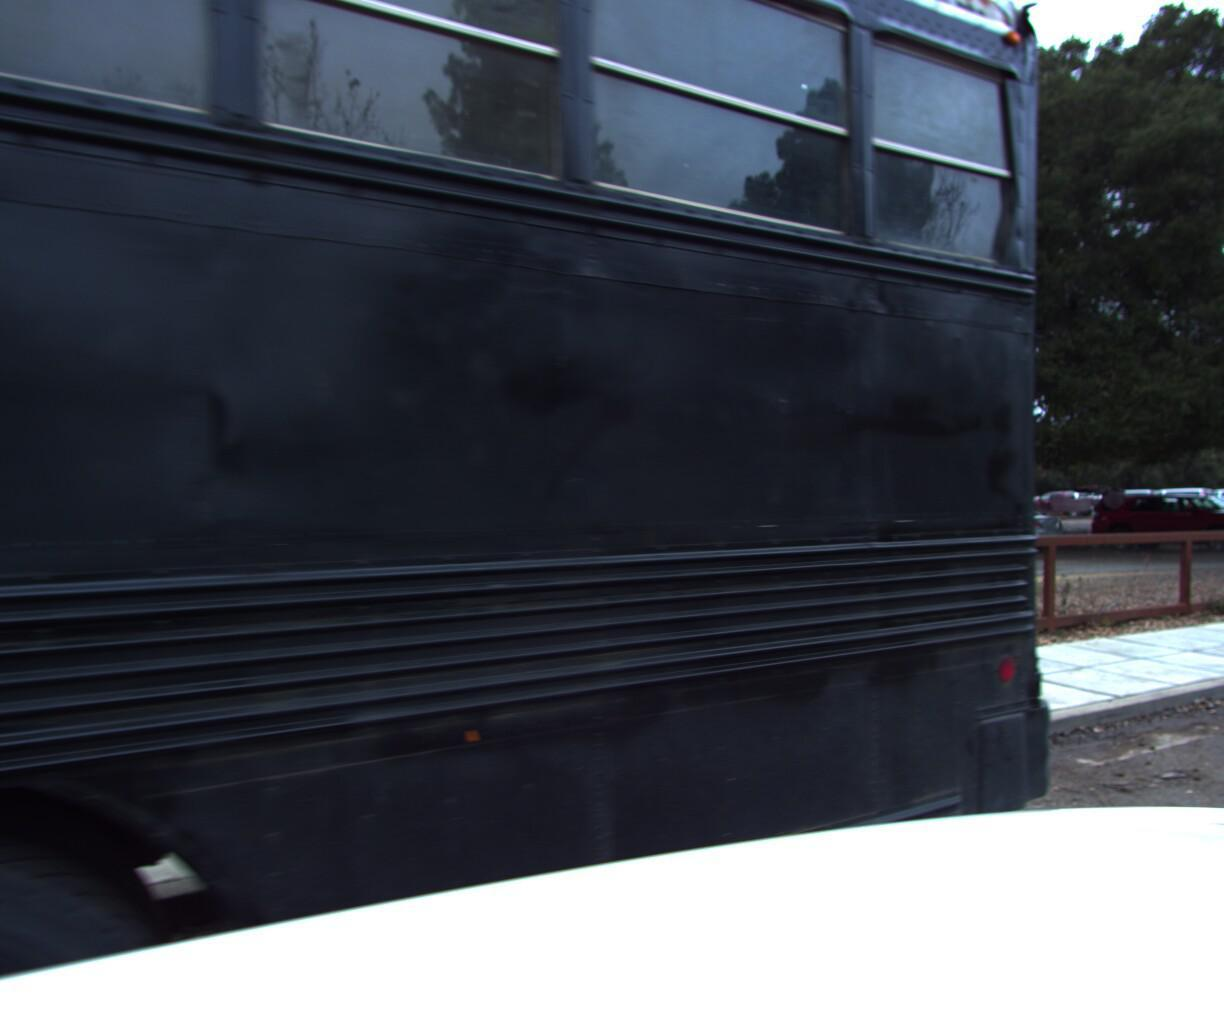car: (1083, 479, 1224, 548), (901, 498, 1076, 548)
